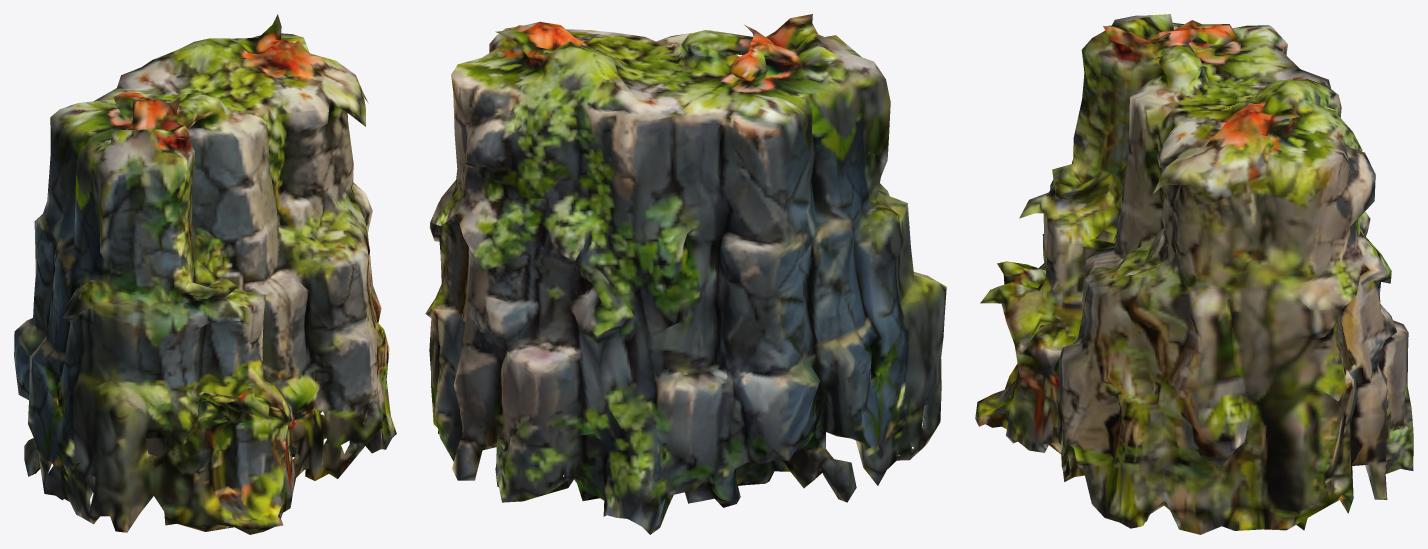
File: SummerDecor_SecondRoom_VineWall.fbx
3 renders of one model, left to right at view 1: azimuth 30°, elevation 25°; view 2: azimuth 150°, elevation 25°; view 3: azimuth 270°, elevation 25°, orthographic. The views are drawn at different scales.
Parts seen in each view (by area): view 1: SummerDecor_SecondRoom_VineWall_Mesh; view 2: SummerDecor_SecondRoom_VineWall_Mesh; view 3: SummerDecor_SecondRoom_VineWall_Mesh.
Part boxes in pixels (x1=…): SummerDecor_SecondRoom_VineWall_Mesh: x1=14, y1=14, x2=396, y2=534; SummerDecor_SecondRoom_VineWall_Mesh: x1=425, y1=14, x2=946, y2=534; SummerDecor_SecondRoom_VineWall_Mesh: x1=975, y1=14, x2=1413, y2=534.
Size of the model in its own units: 5.9 by 6 by 5.97.
Materials: 1 (1 with a texture image).
